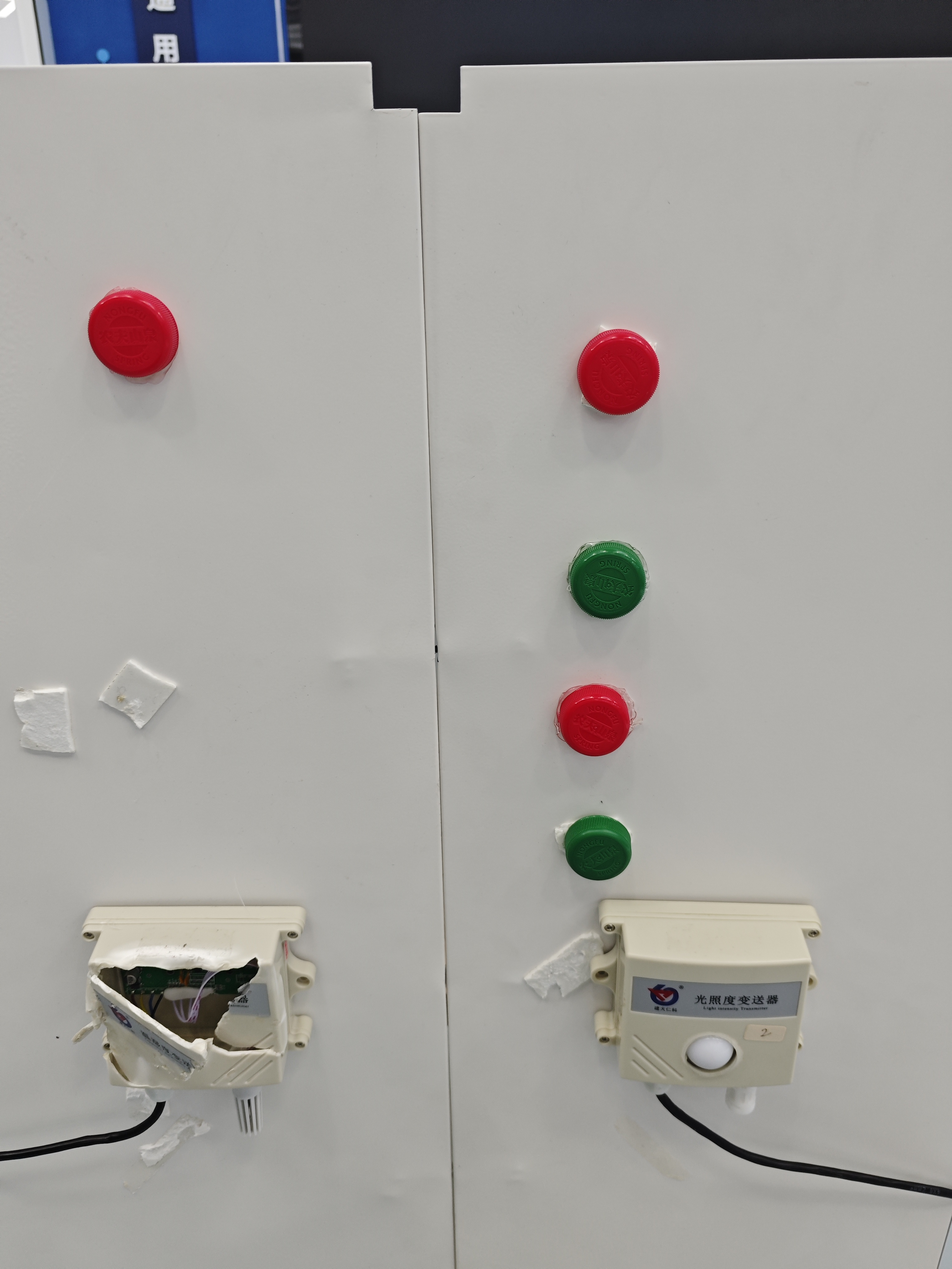red_warning: (557, 304, 732, 438), (543, 636, 650, 772), (61, 280, 204, 380)
sensor_damage: (71, 882, 350, 1178)
